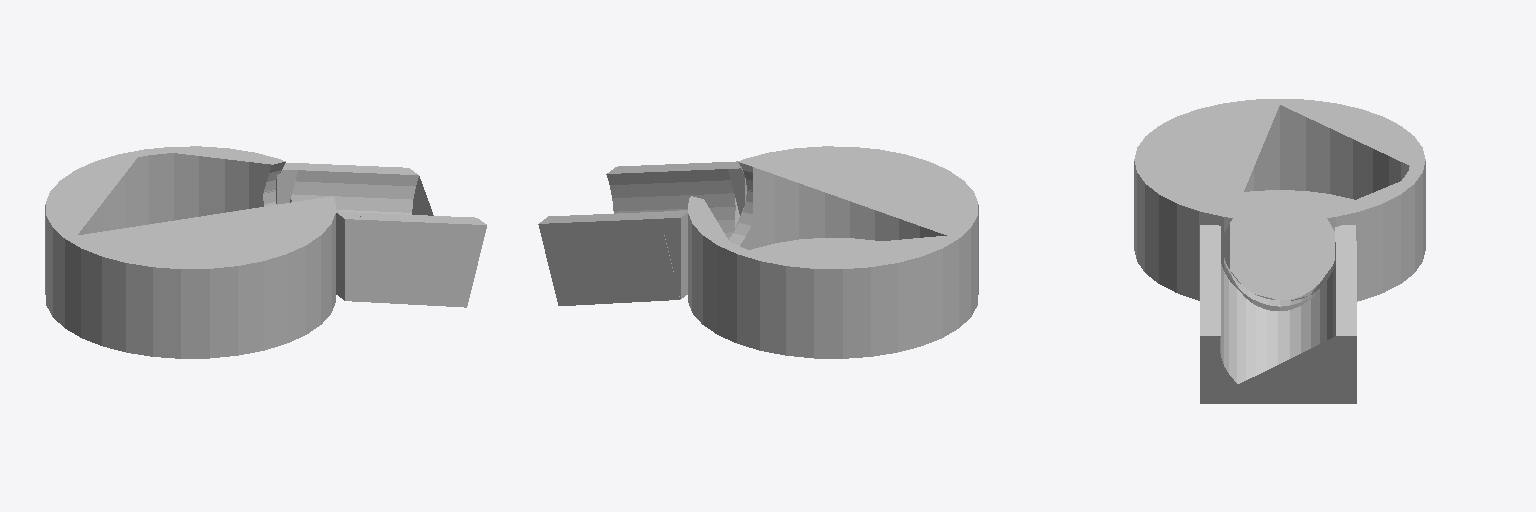
Rendered from tray_start.obj.
3 views of the same model, side by side, from view 1: azimuth 30°, elevation 25°; view 2: azimuth 150°, elevation 25°; view 3: azimuth 270°, elevation 25° (orthographic).
Visible parts, largest first — view 1: Tray_start; view 2: Tray_start; view 3: Tray_start.
Boxes of the visible parts, box(x1,y1,x2,y2) form: Tray_start: box(45, 146, 486, 358); Tray_start: box(538, 146, 978, 358); Tray_start: box(1134, 99, 1425, 403).
Size of the model in its own units: 3.03 by 0.9708 by 2.